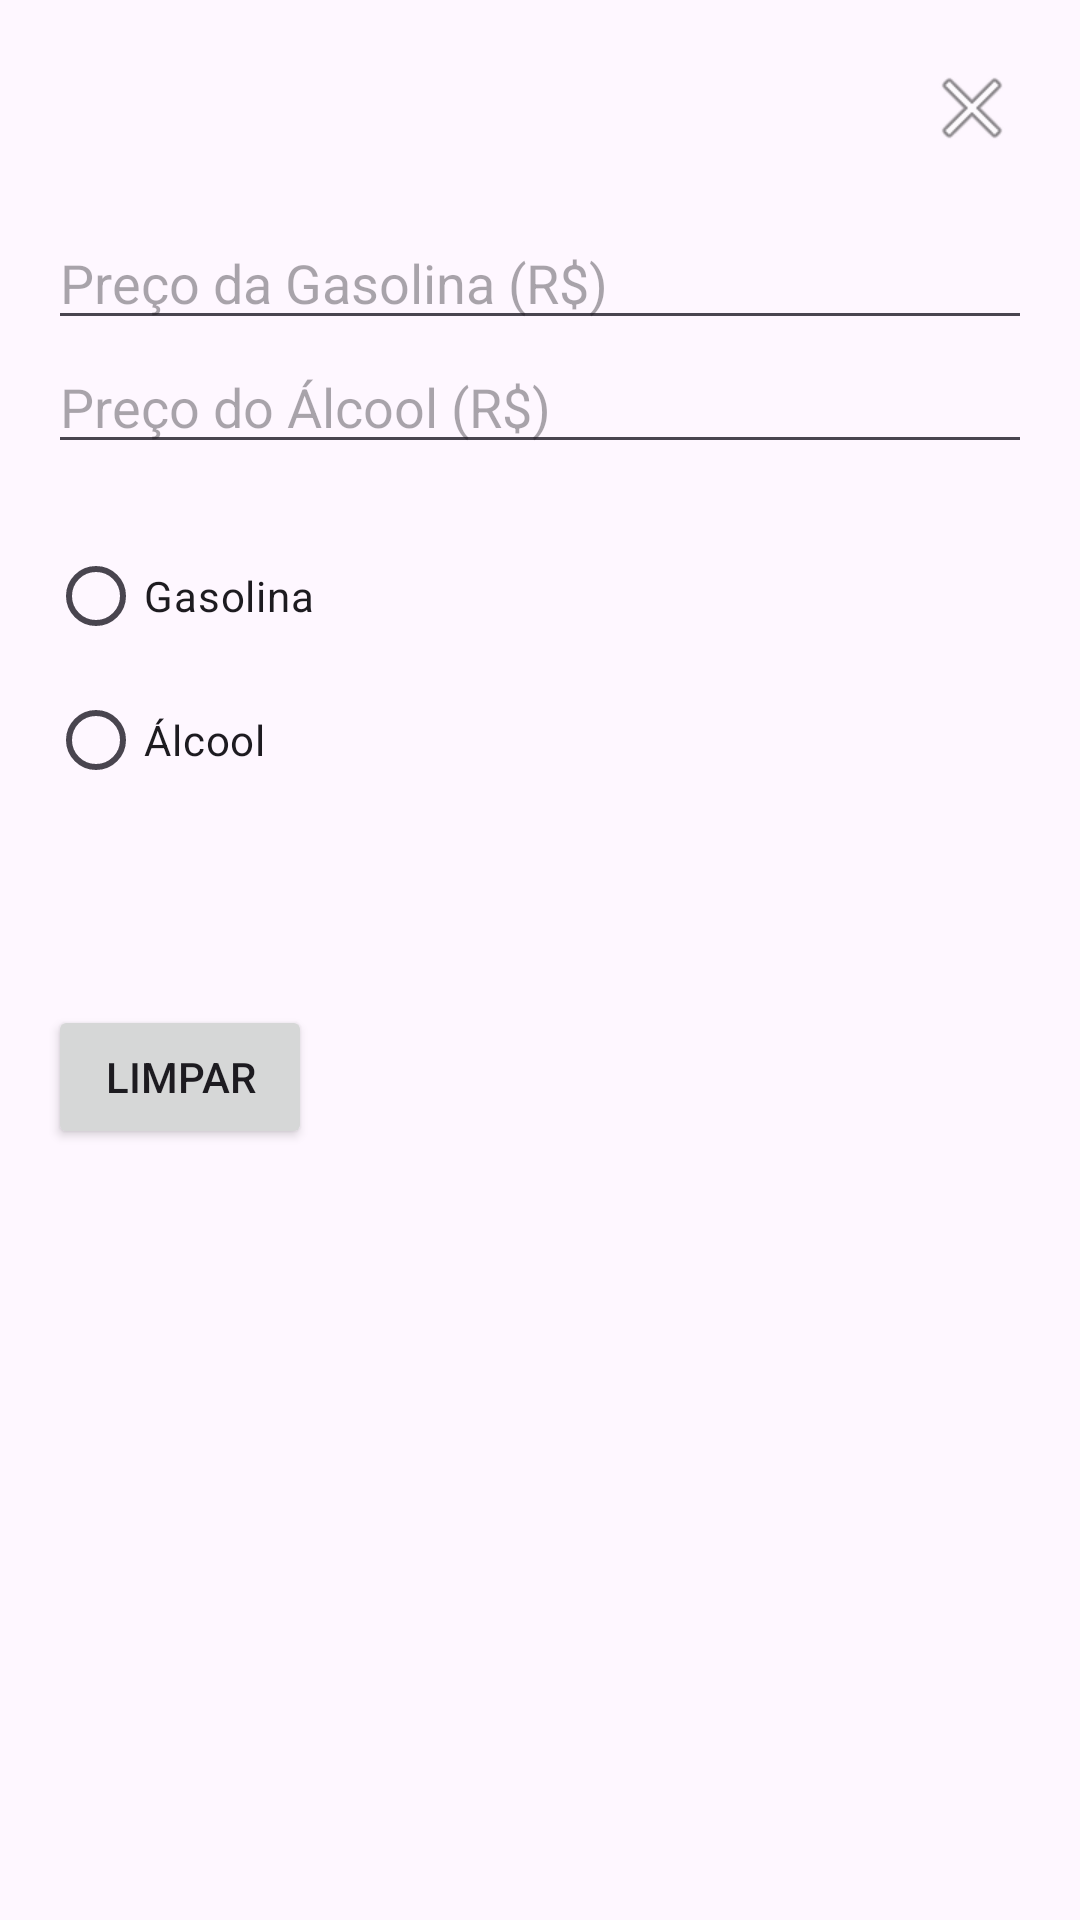

Icons on this 1080 x 1920 Android screen, each with its box as detection(x1, y1, x2, y2):
Fechar: detection(942, 78, 1002, 138)
